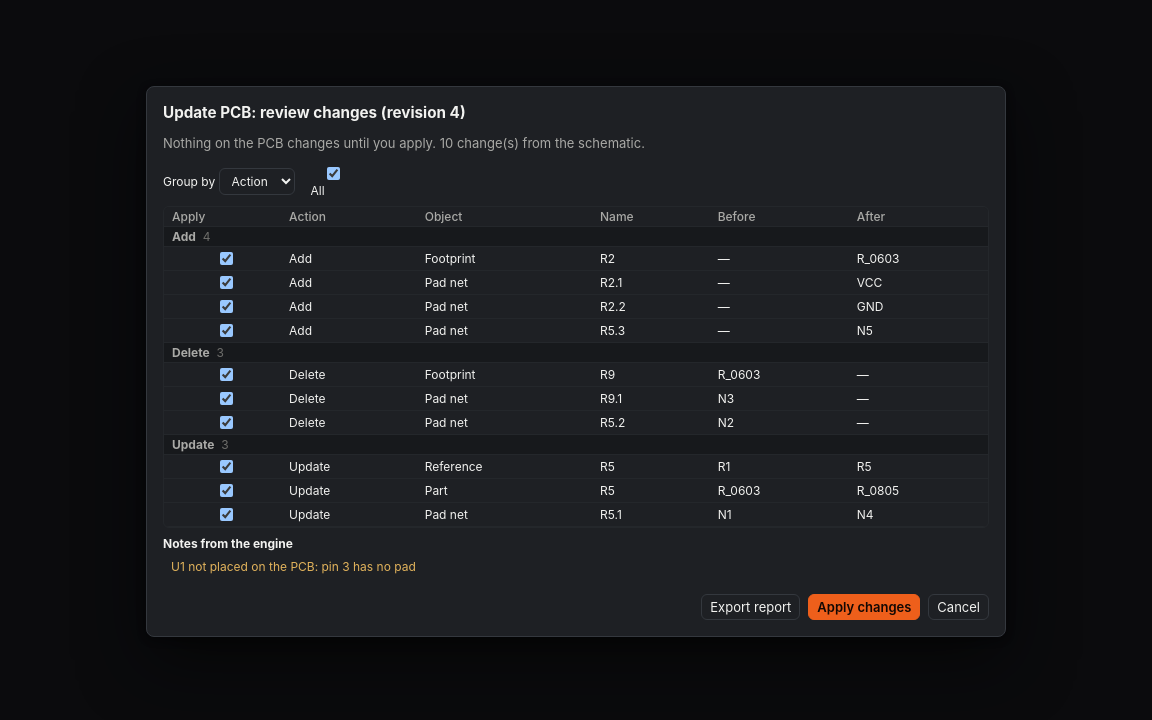
Test: ECO review dialog › a failed export says so instead of claiming the report was saved
Click the button "Export report" at [751, 607], box [701, 594, 800, 620]
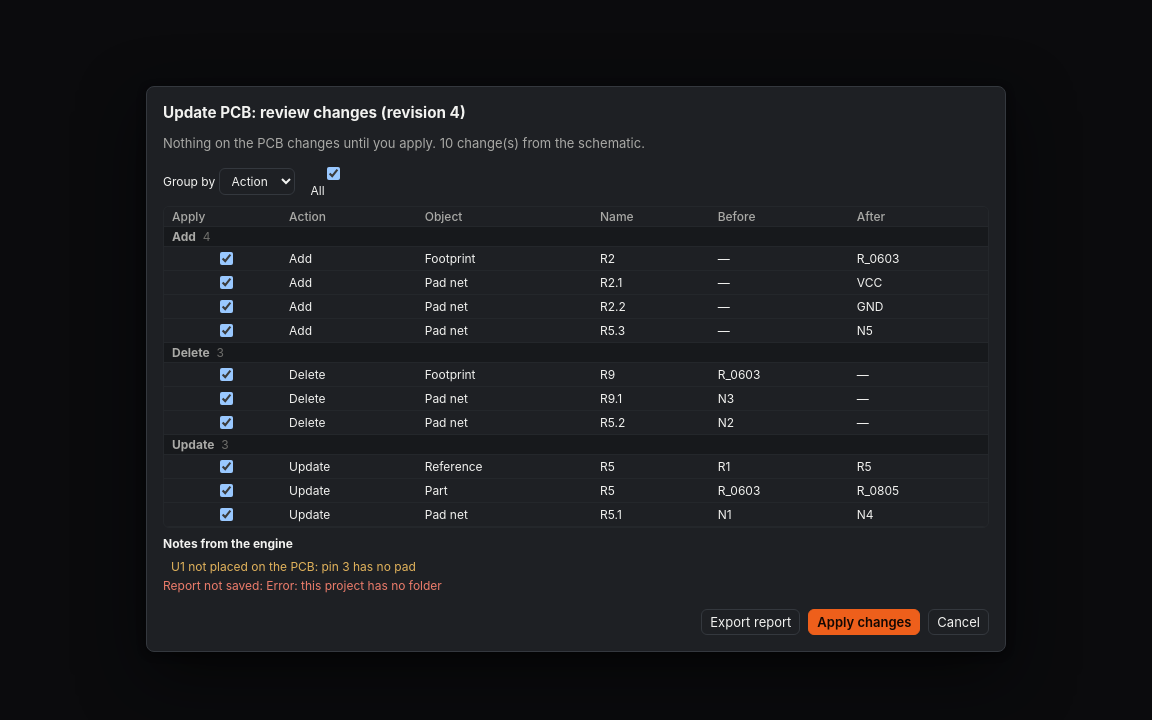
expect the message shows "Report not saved": met, box [163, 578, 442, 593]
